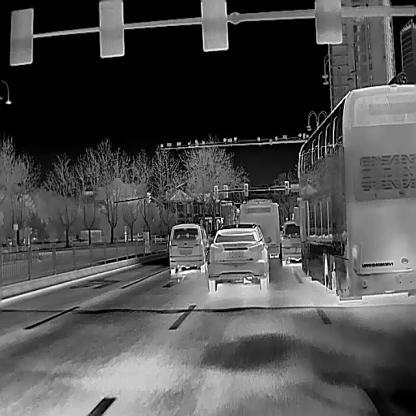bus: (300, 83, 415, 301), (238, 199, 278, 259)
car: (208, 225, 269, 293), (167, 222, 207, 274)
truck: (281, 218, 302, 264)
